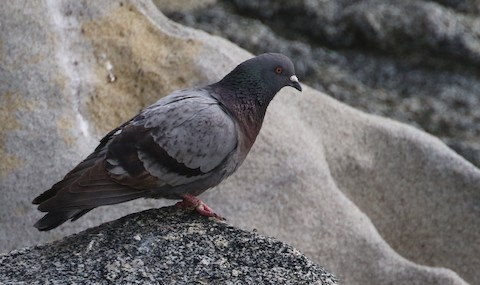pigeon: (29, 50, 306, 236)
